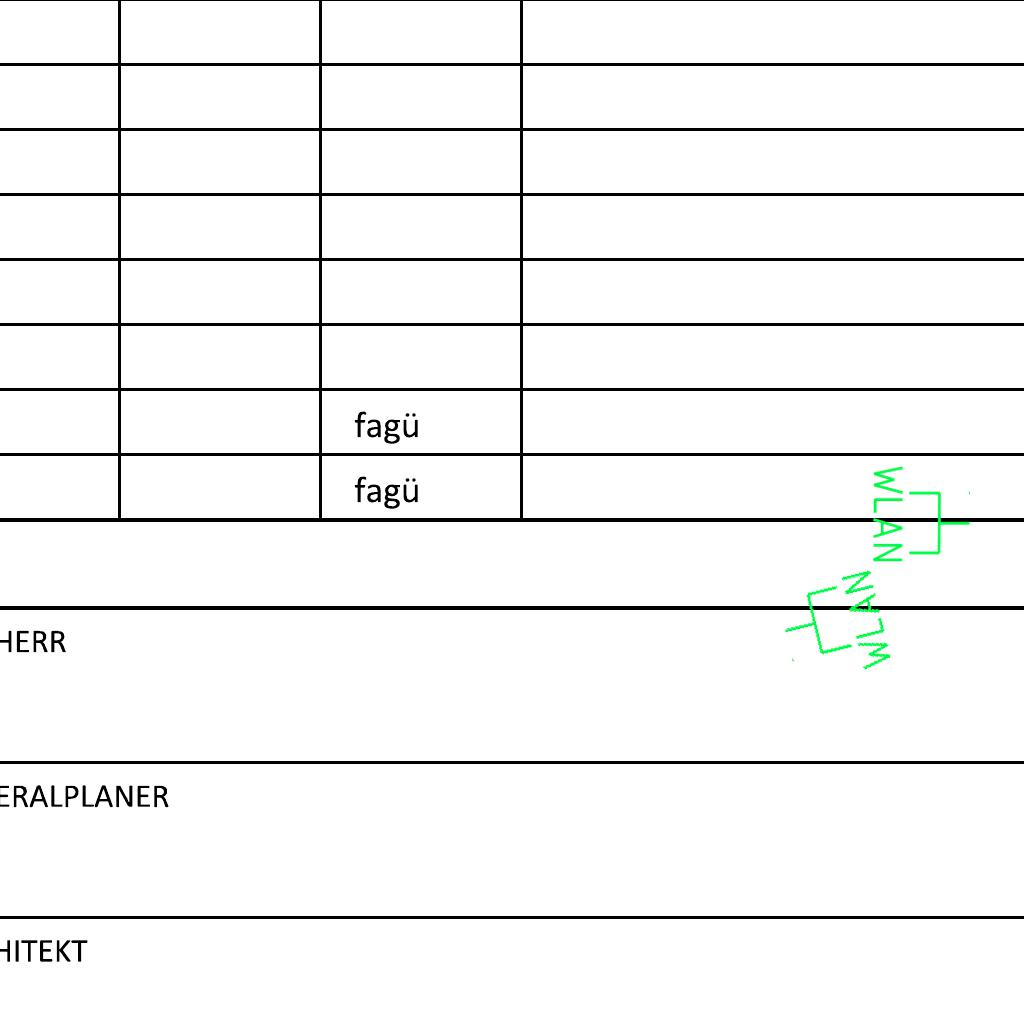WLAN: (771, 564, 899, 693), (869, 461, 973, 566)
